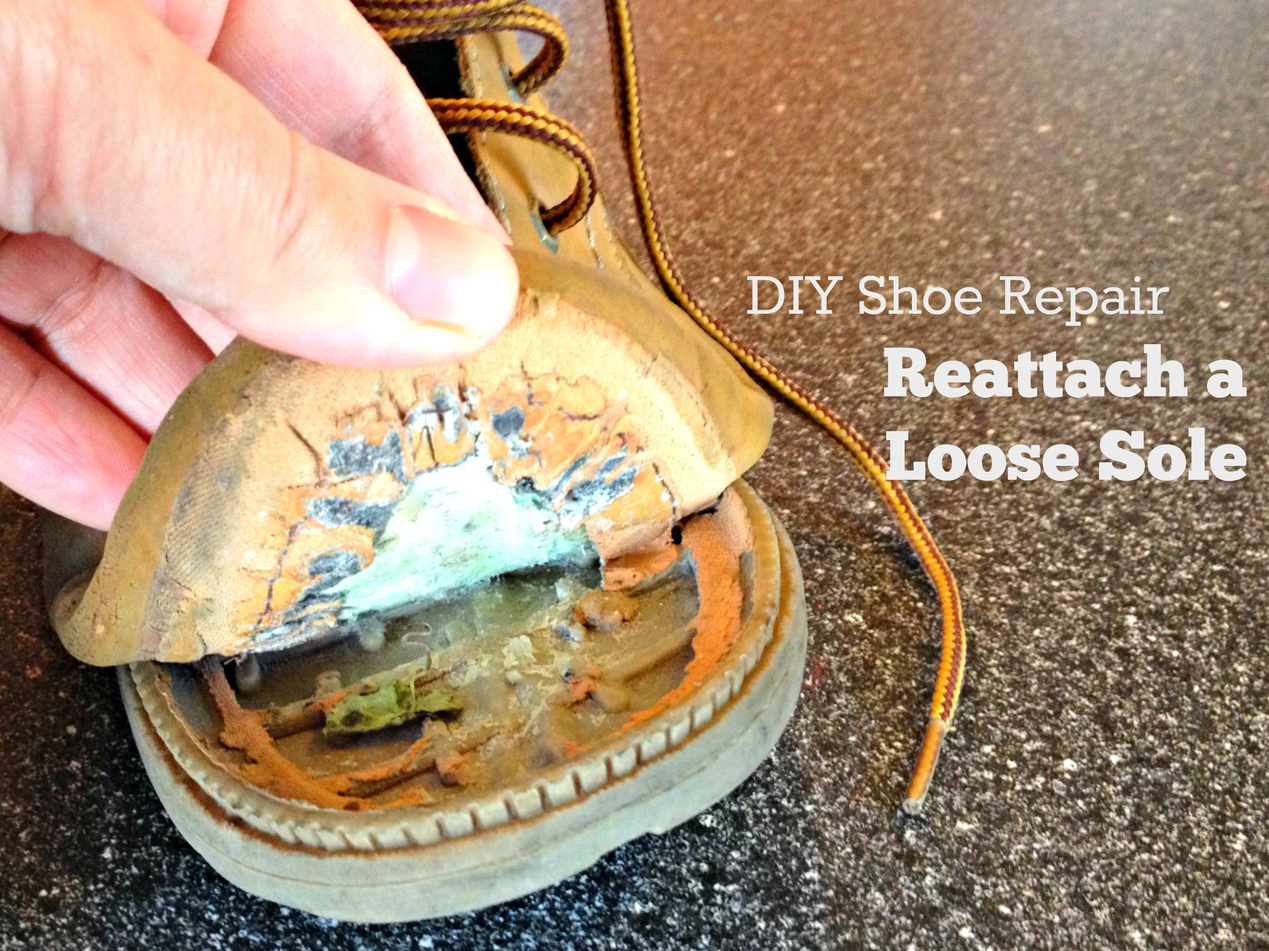bonding: (115, 352, 805, 831)
